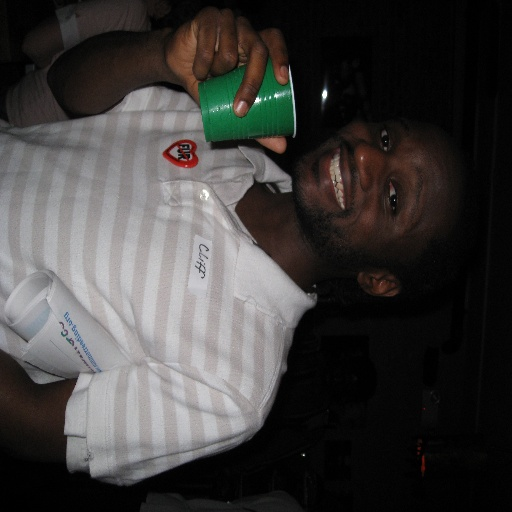hand: (164, 3, 288, 153)
